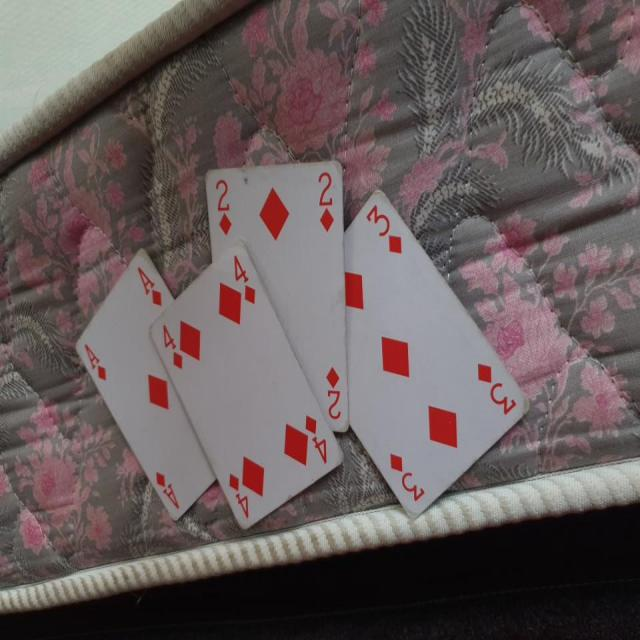2 Diamonds: (201, 156, 352, 432)
3 Diamonds: (344, 188, 533, 530)
4 Diamonds: (147, 238, 344, 542)
A Diamonds: (72, 246, 218, 524)
